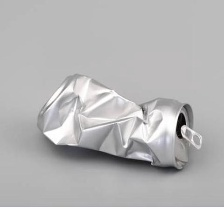can: (24, 70, 207, 177)
